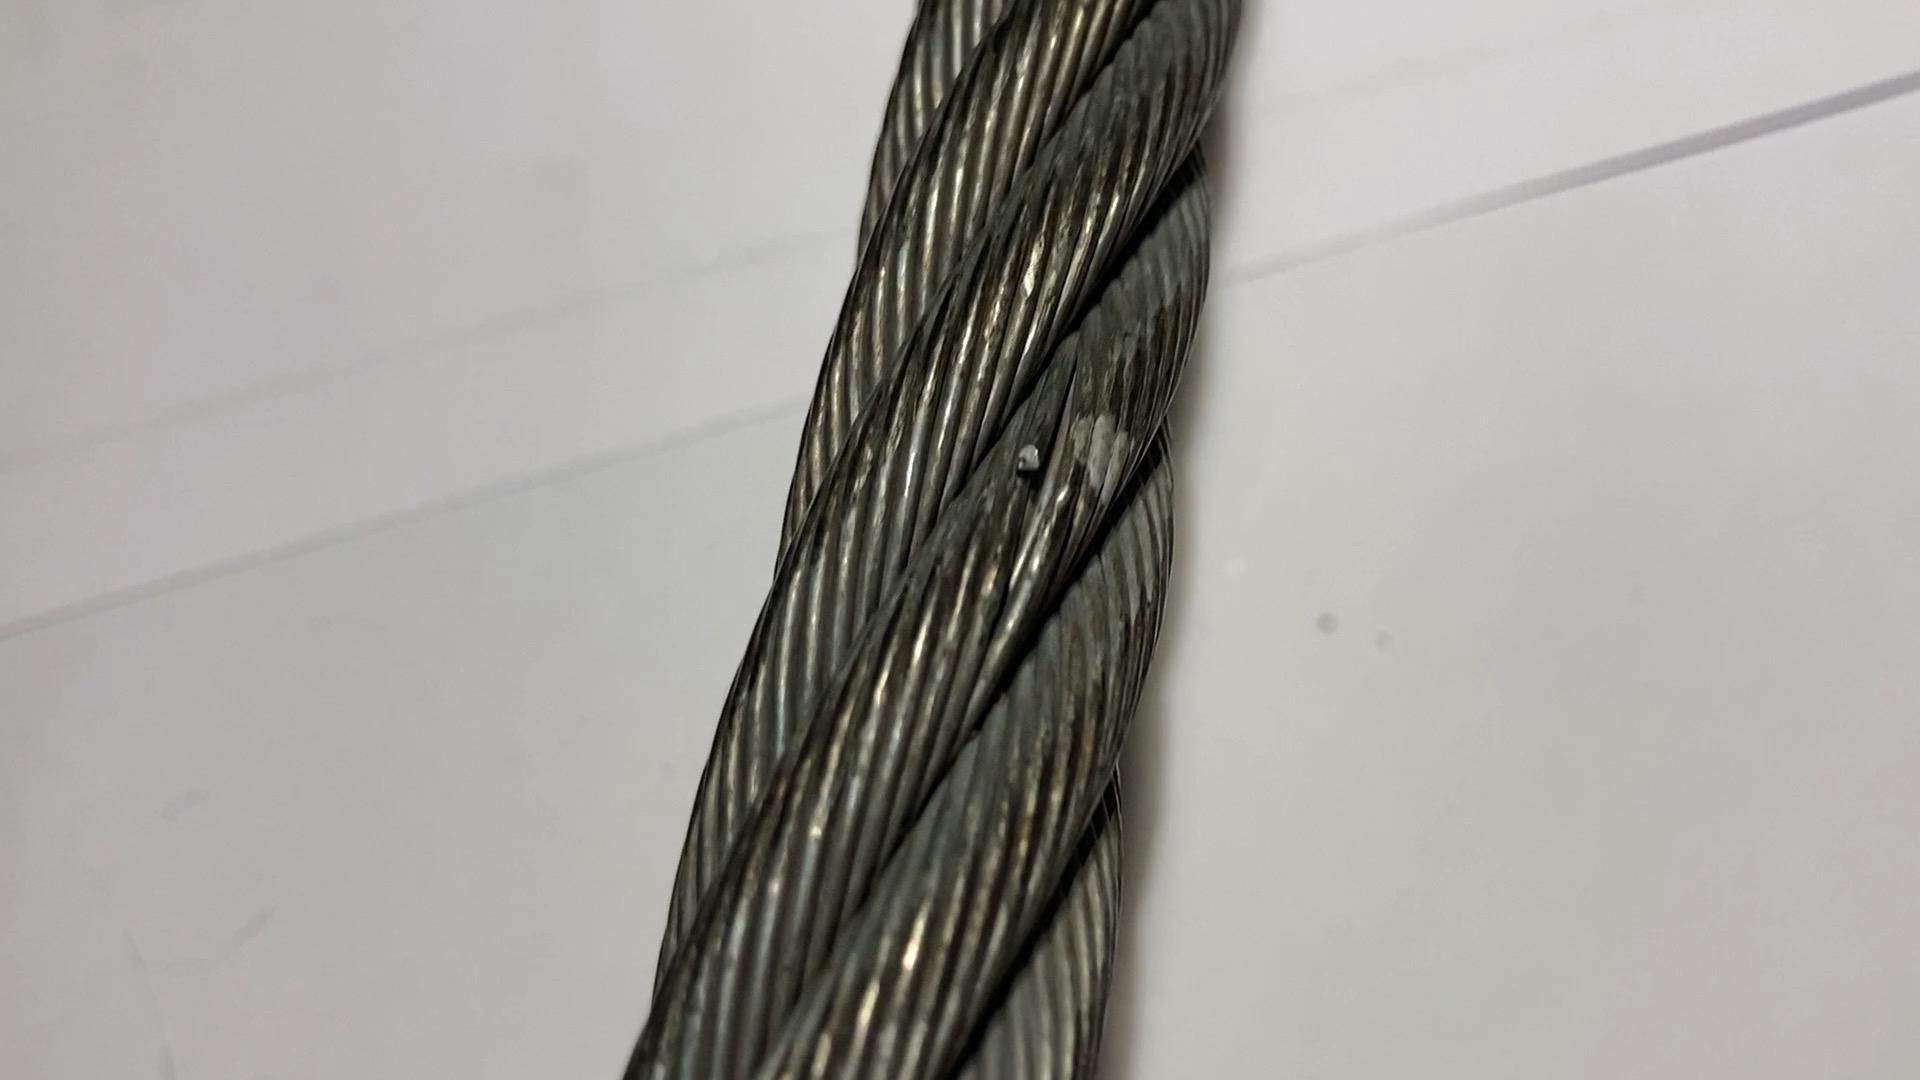break: (981, 413, 1121, 553)
